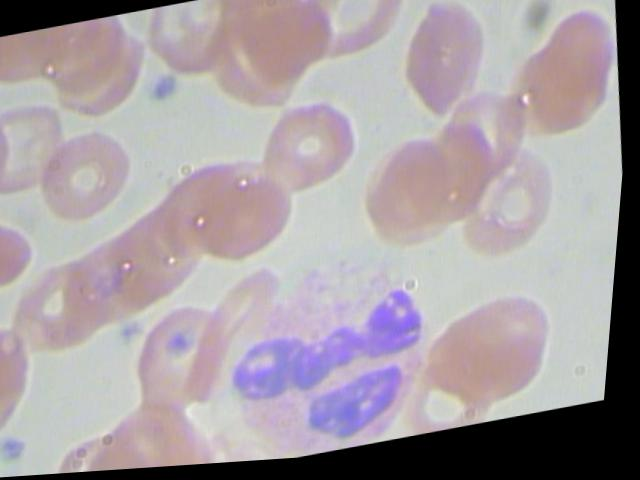Platelets: (142, 70, 186, 111), (110, 315, 154, 356), (0, 430, 41, 471)
Red Blood Cells: (448, 131, 576, 278), (448, 274, 576, 421), (403, 297, 532, 442), (503, 3, 630, 150), (379, 0, 507, 139), (243, 88, 376, 214), (26, 114, 159, 240), (131, 294, 239, 434), (189, 159, 308, 283), (355, 137, 473, 260), (114, 190, 221, 310), (6, 249, 113, 369), (147, 159, 253, 279), (79, 217, 185, 337), (30, 30, 156, 128), (129, 0, 269, 83), (0, 87, 87, 211), (288, 0, 425, 73)
White Blood Cells: (205, 248, 454, 467)
